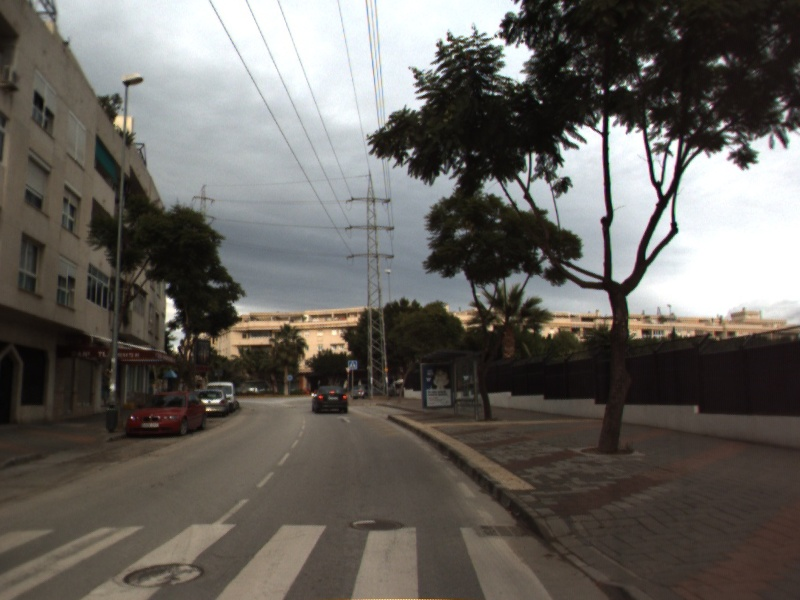STRAIGHT: (335, 413, 353, 425)
